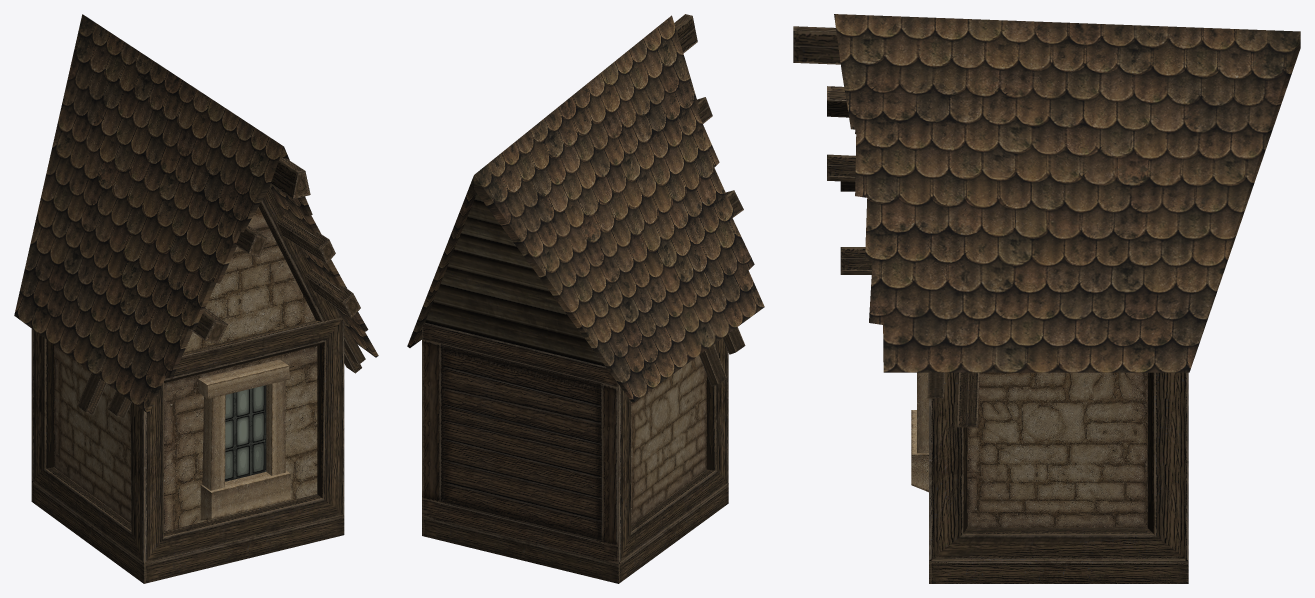
The model's file is Window_b05.fbx.
3 views of the same model, side by side, from view 1: azimuth 30°, elevation 25°; view 2: azimuth 150°, elevation 25°; view 3: azimuth 270°, elevation 25° (orthographic). The views are drawn at different scales.
Parts seen in each view (by area): view 1: Window_b05; view 2: Window_b05; view 3: Window_b05.
Part boxes in pixels (x1,y1,x2,y2): Window_b05: (14, 14, 378, 583); Window_b05: (407, 14, 764, 583); Window_b05: (793, 14, 1300, 583).
Bounding box in the file's own units: 3.82 × 6.25 × 5.61.
